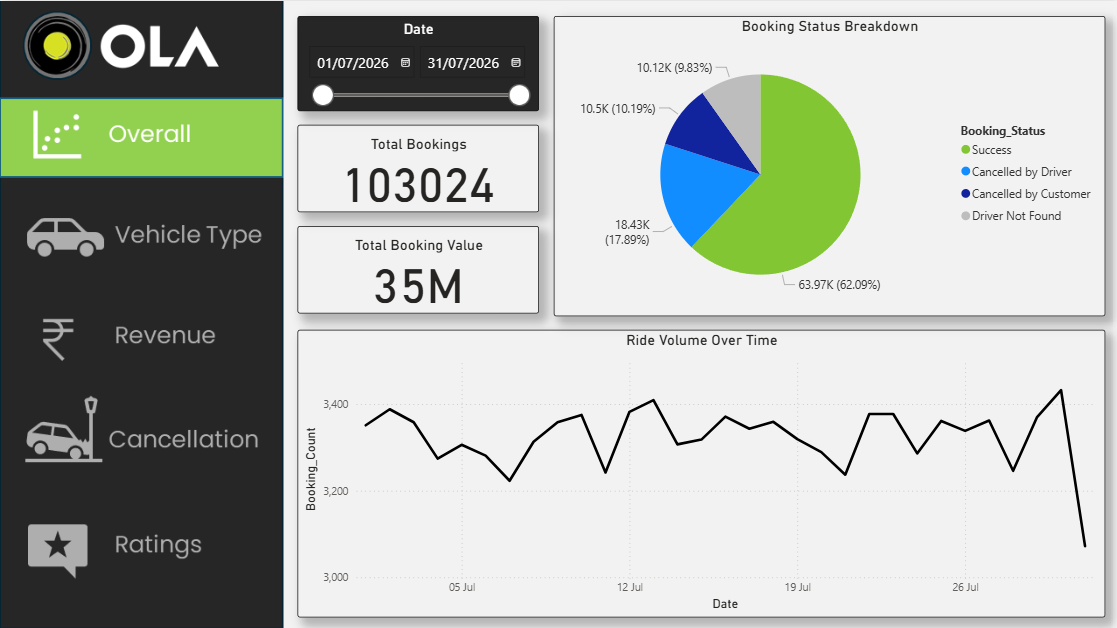

What the dashboard file says about the page in this screenshot:
{"tool":"powerbi","page":{"name":"Overall","canvas":[1280,720],"ordinal":0},"visuals":[{"type":"actionButton","box":[0,222.1,322.7,92],"z":0},{"type":"actionButton","box":[0,338.7,322.7,92],"z":1000},{"type":"actionButton","box":[0,445.4,322.7,92],"z":2000},{"type":"actionButton","box":[0,577.9,322.7,92],"z":3000},{"type":"lineChart","title":"Ride Volume Over Time","fields":{"Y":["CountNonNull(July.Booking_ID)"],"Category":["July.Date"]},"box":[340,375.7,922.9,328.6],"z":4000},{"type":"pieChart","title":"Booking Status Breakdown","fields":{"Category":["July.Booking_Status"],"Y":["CountNonNull(July.Booking_Status)"]},"box":[632.9,17.1,630,342.9],"z":5000},{"type":"slicer","title":"Date","fields":{"Values":["July.Date"]},"box":[340,16.4,275.7,108.6],"z":6000},{"type":"card","title":"Total Bookings","fields":{"Values":["Count(July.Booking_ID)"]},"box":[340,141.4,275.7,100],"z":7000},{"type":"card","title":"Total Booking Value","fields":{"Values":["Sum(July.Booking_Value)"]},"box":[340,257.6,276.2,100],"z":8000}]}

Visuals, with their boxes in screenshot pixels (x1, y1, x2, y2), scaled from the page's 1280x720 canvas onto the 1117x628 screenshot:
actionButton: l=0, t=194, r=282, b=274
actionButton: l=0, t=295, r=282, b=376
actionButton: l=0, t=388, r=282, b=469
actionButton: l=0, t=504, r=282, b=584
"Ride Volume Over Time" lineChart: l=297, t=328, r=1102, b=614
"Booking Status Breakdown" pieChart: l=552, t=15, r=1102, b=314
"Date" slicer: l=297, t=14, r=537, b=109
"Total Bookings" card: l=297, t=123, r=537, b=211
"Total Booking Value" card: l=297, t=225, r=538, b=312
